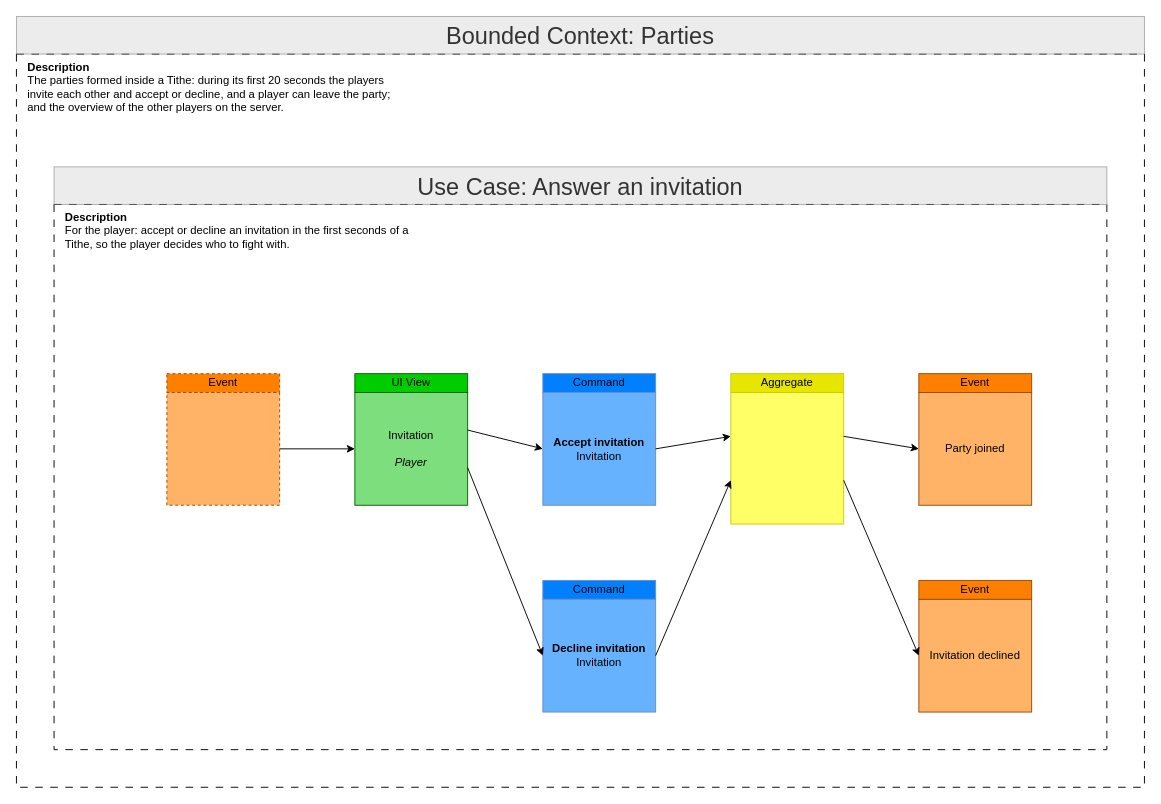
This 1161x804 diagram has some shape labels left out. Here are the shapes that lost their labels. From the top down, the box of each, then its label:
(166, 392, 280, 505): Invitation sent (Form a party)
(730, 392, 844, 524): Party Members (many) · Player · Character Invitations (many) · Player · Status
